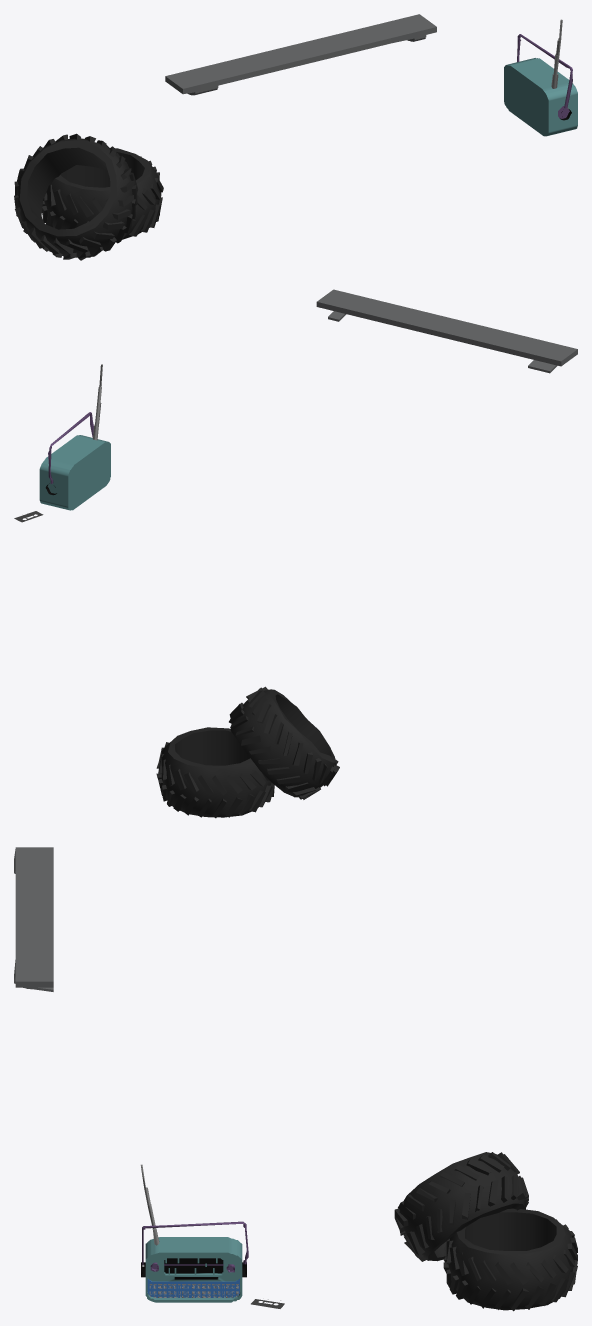
File: compressed_Decors_6.glb
3 renders of one model, top to bottom at view 1: azimuth 30°, elevation 25°; view 2: azimuth 150°, elevation 25°; view 3: azimuth 270°, elevation 25°, orthographic. The views are drawn at different scales.
Parts seen in each view (by area): view 1: Debris_Tires, AChelf, radio; view 2: Debris_Tires, AChelf, radio; view 3: Debris_Tires, radio, AChelf.
Part boxes in pixels (left/top/right/bottom): Debris_Tires: left=14, top=133, right=163, bottom=260; AChelf: left=165, top=14, right=436, bottom=95; radio: left=504, top=19, right=577, bottom=136; Debris_Tires: left=156, top=686, right=339, bottom=818; AChelf: left=316, top=289, right=577, bottom=373; radio: left=39, top=364, right=110, bottom=510; Debris_Tires: left=394, top=1152, right=577, bottom=1311; radio: left=140, top=1164, right=248, bottom=1302; AChelf: left=14, top=847, right=53, bottom=991.
Bounding box in the file's own units: 7.78 × 5.4 × 7.56.
